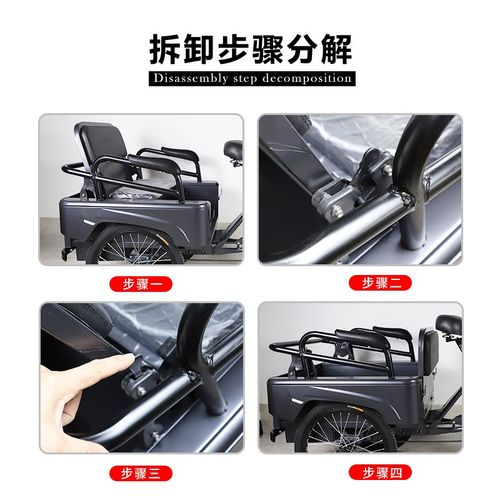empty: (39, 114, 246, 270)
